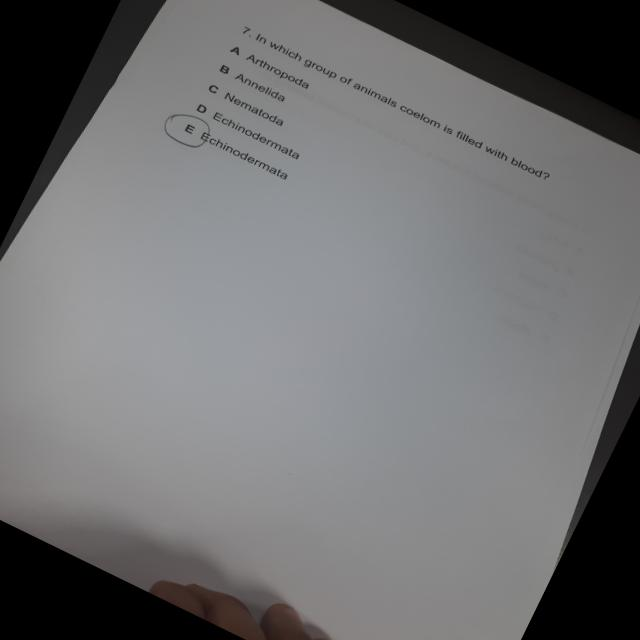E: (154, 101, 220, 158)
